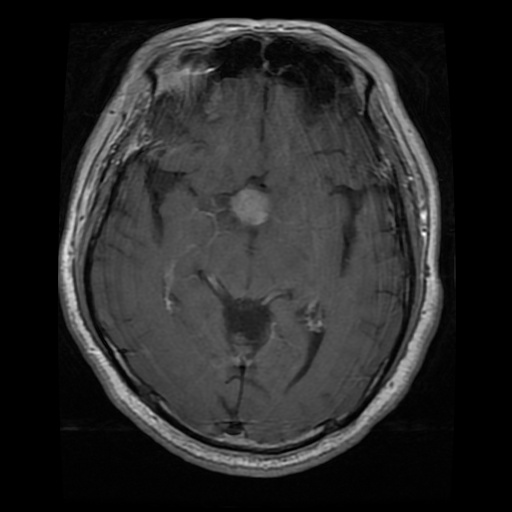pituitary: (231, 186, 271, 225)
